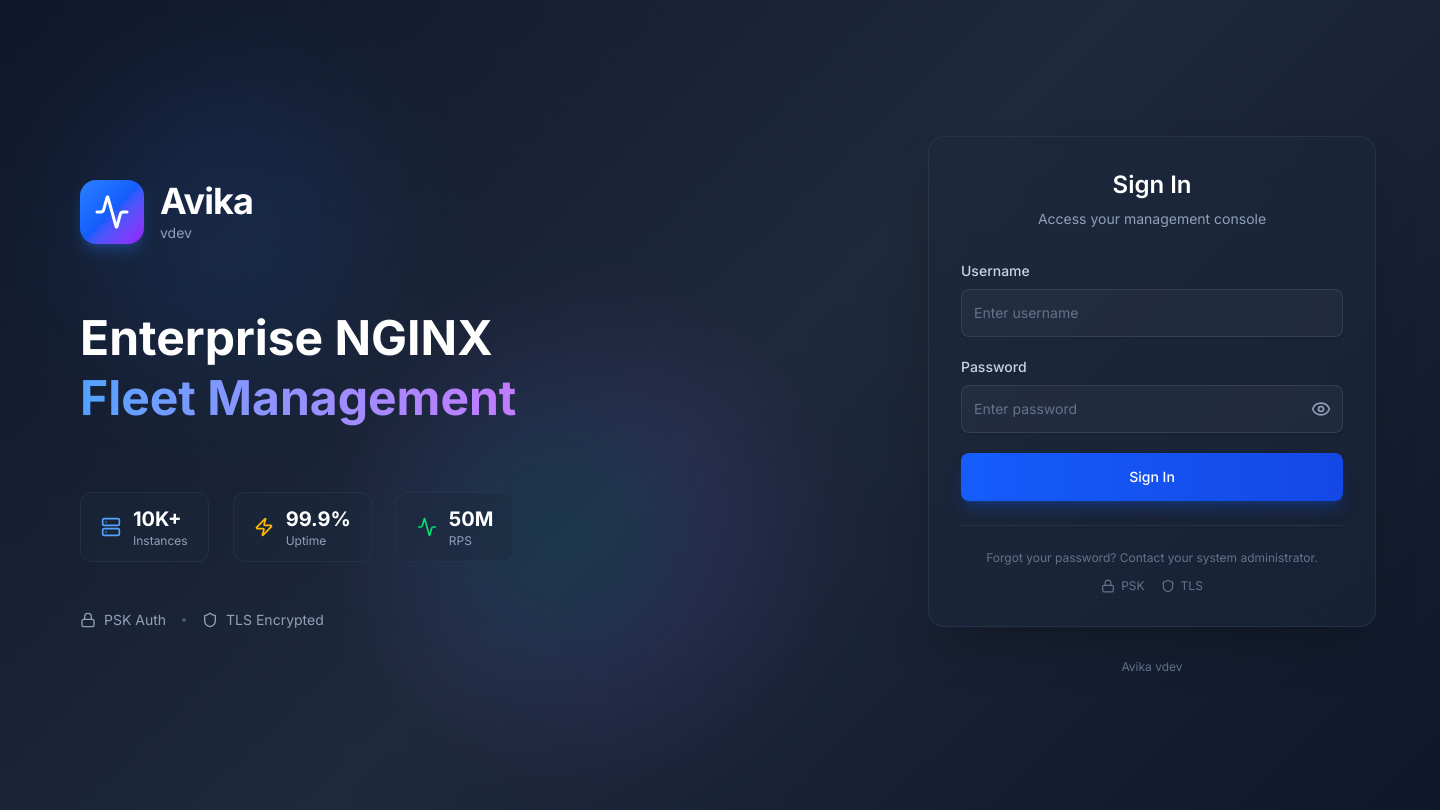
Test case: LoginPage › Form Submission - Success › shows loading state during submission
The image size is (1440, 810).
Step 1. Type "admin" into the field labelled "Username" → (1152, 312), box [961,288,1343,336]
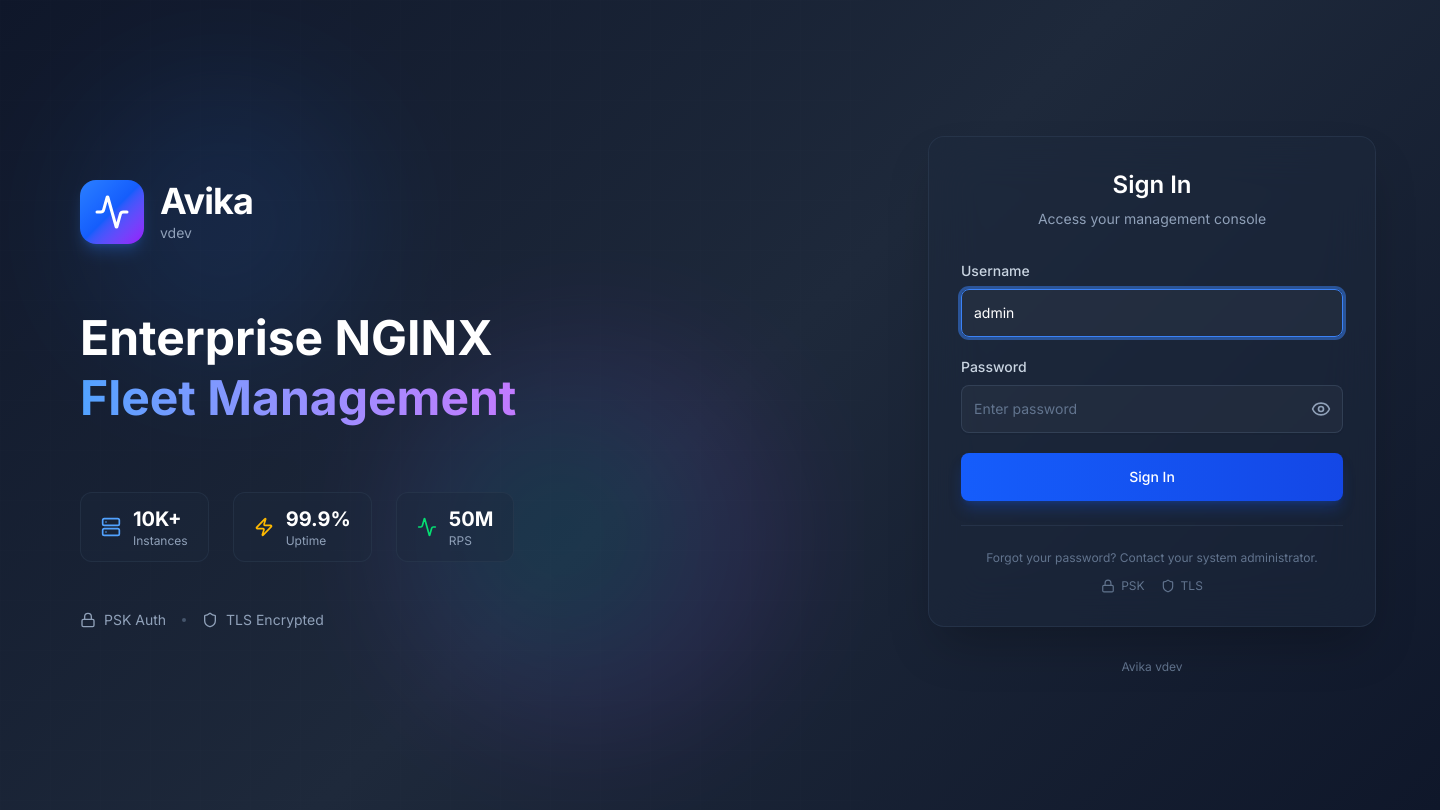
Step 2. Type "password123" into the password field labelled "Password" → (1152, 408), box [961,384,1343,432]
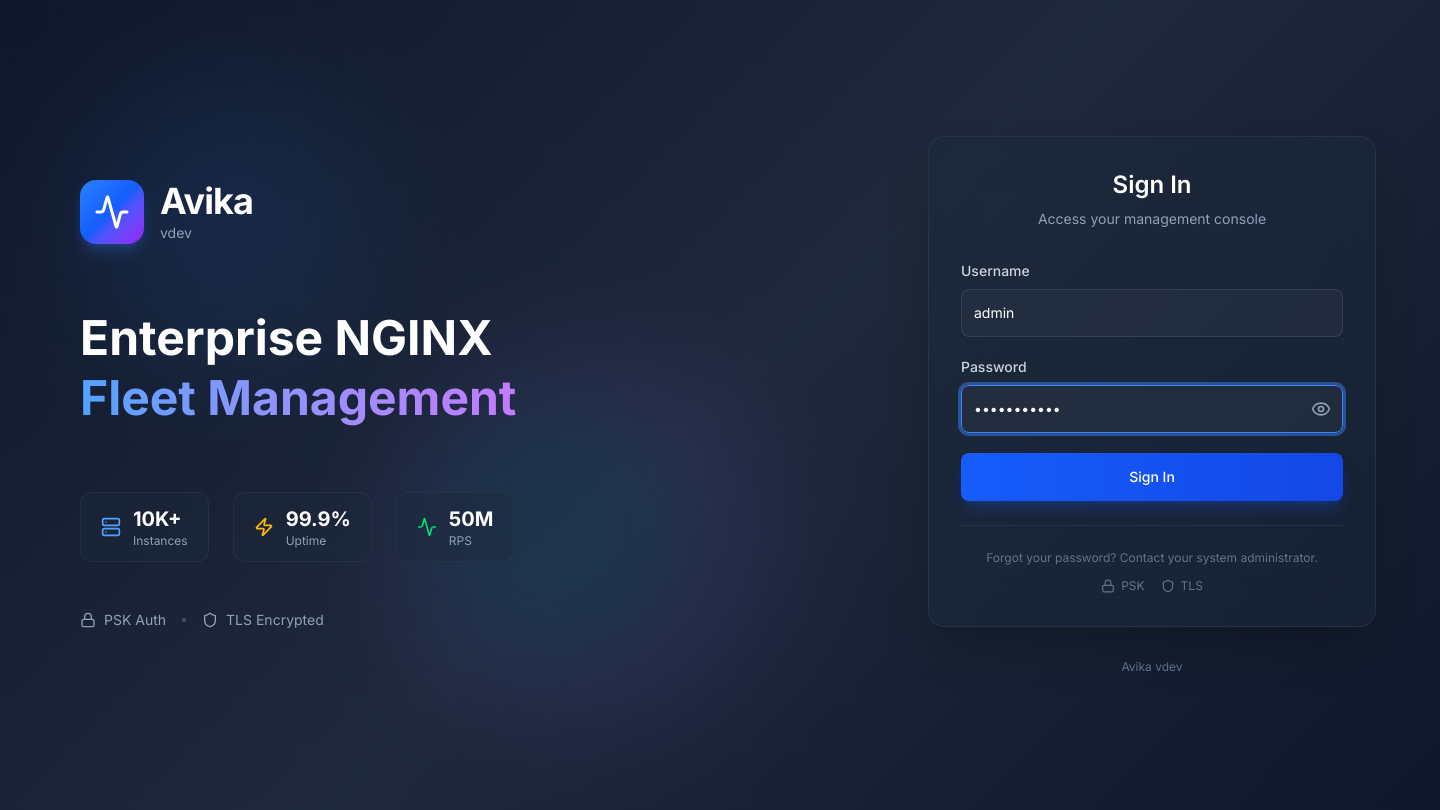
Step 3. Click the button "Sign In" → (1152, 476), box [961,452,1343,500]
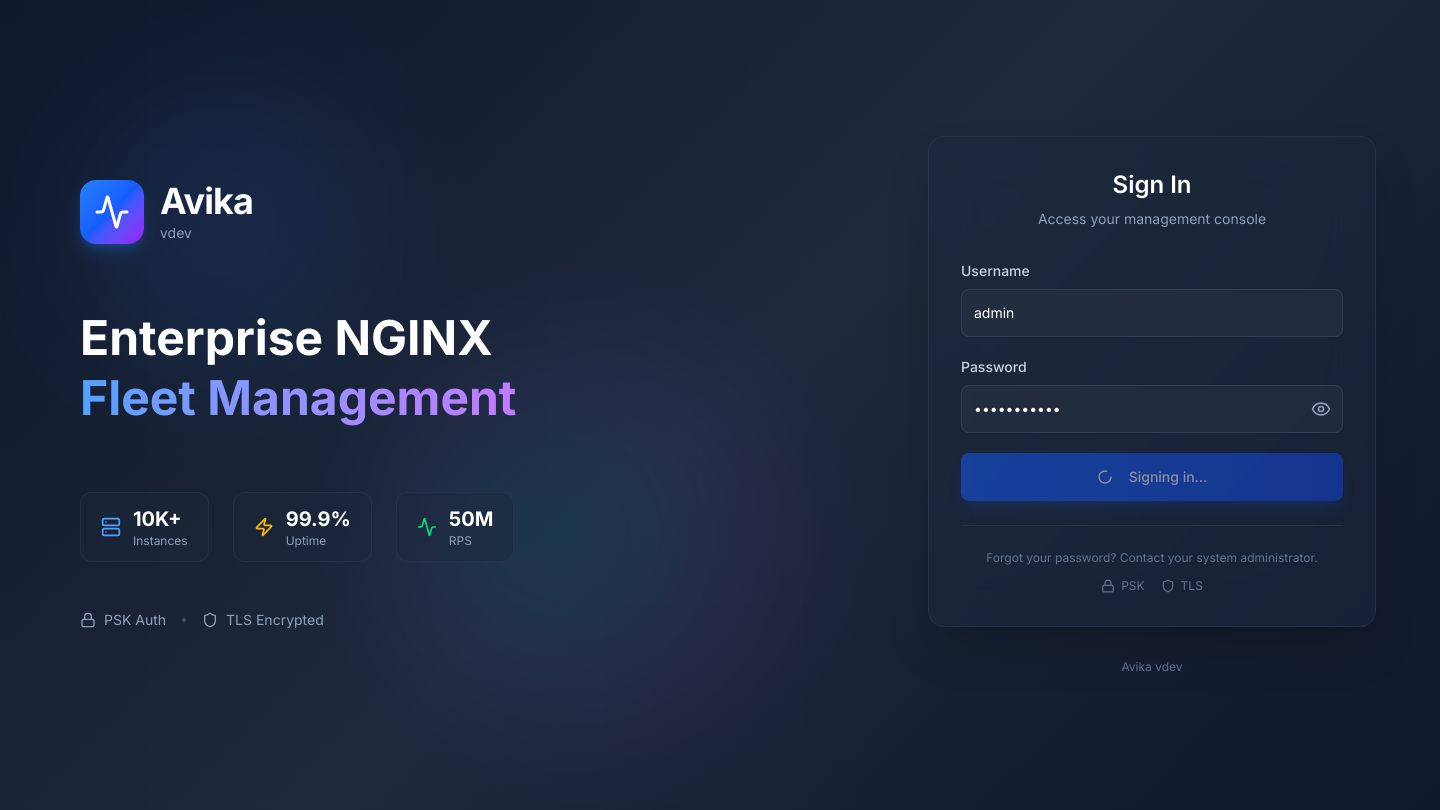
Expected: the button "Signing in..." is shown, [961,452,1343,500]
